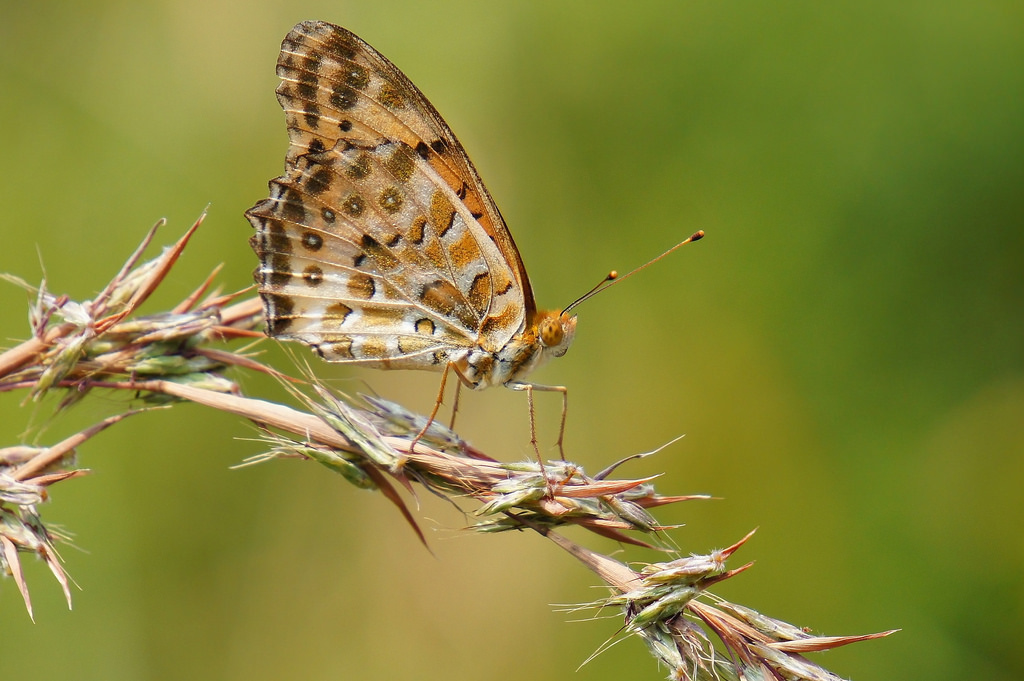Argyreus hyperbius: (243, 11, 710, 508)
butterfly: (245, 13, 712, 510)
